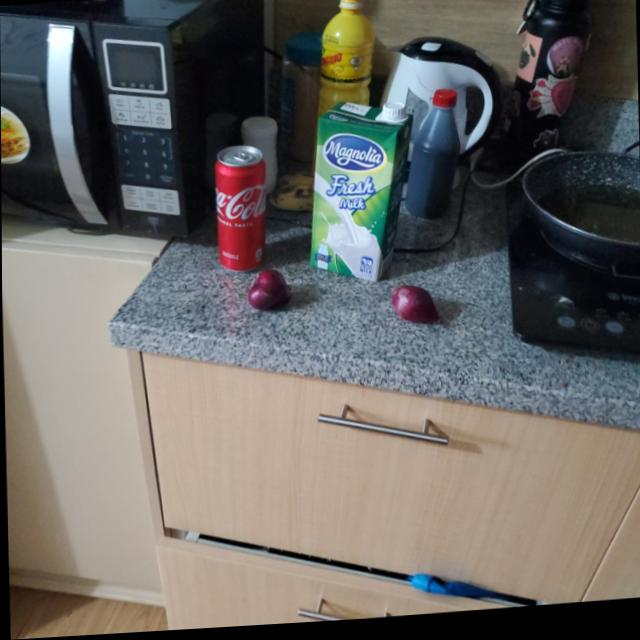coke: (210, 148, 270, 276)
milk: (306, 101, 415, 288)
onion: (390, 286, 439, 336), (248, 270, 289, 316)
